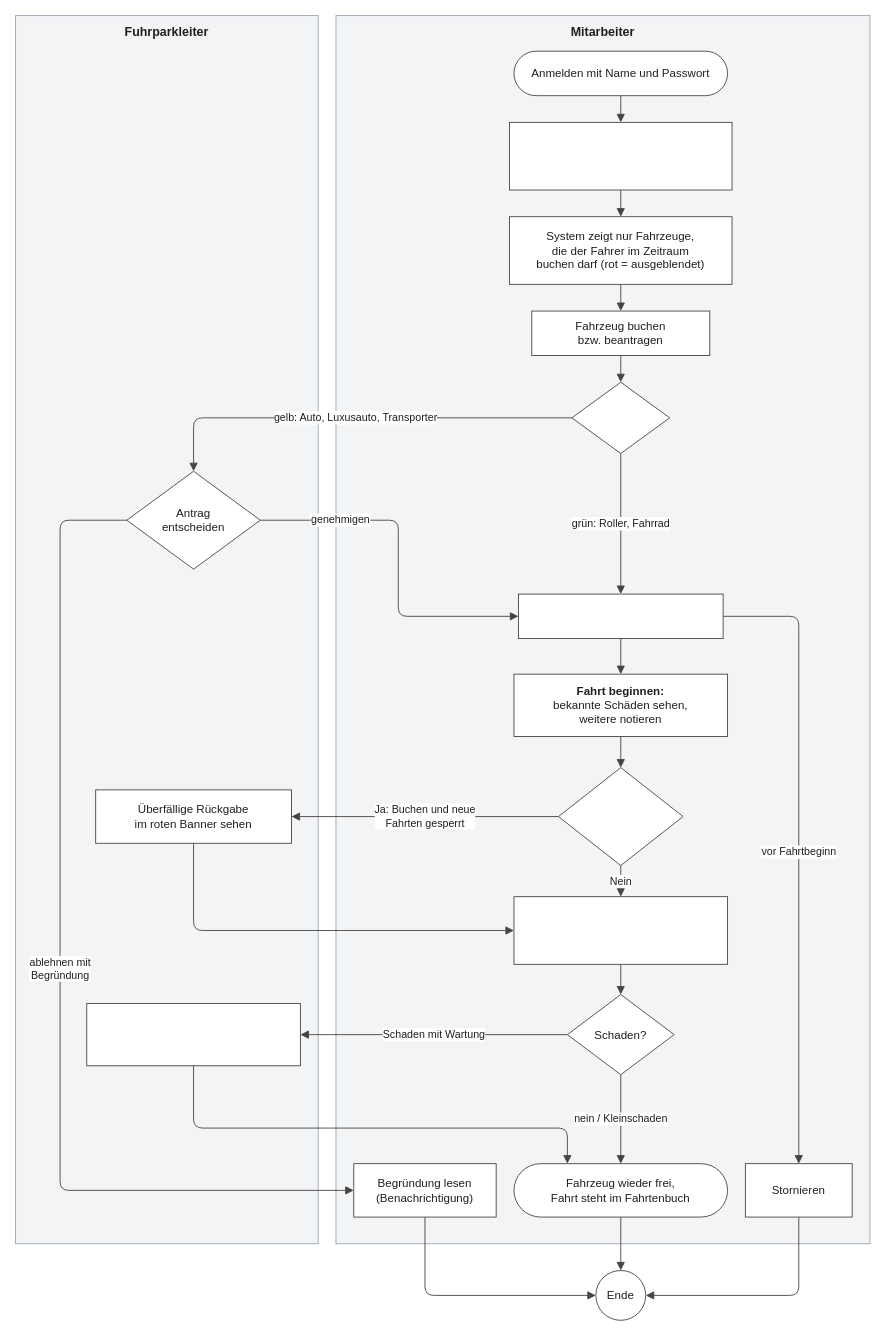
The diagram is 886 pixels wide and 1336 high, and some of its shapes have lost their labels. Here are the shapes that lost their labels. From the top down, the centre of each, then its label:
At [620,155]: "Fahrzeug buchen: Fahrer, Zeitraum, Personen, Zweck und Fahrzeugart angeben".
At [620,417]: "Ampel".
At [620,616]: "Buchung genehmigt, unter „Meine Buchungen“".
At [620,816]: "Rückgabe überfällig?".
At [620,930]: "Zurückgeben: km-Stand, Schaden, Bemerkung, ggf. Fotos".
At [193,1034]: "Schaden sichten, Wartungsende eintragen, nach Reparatur freigeben".
